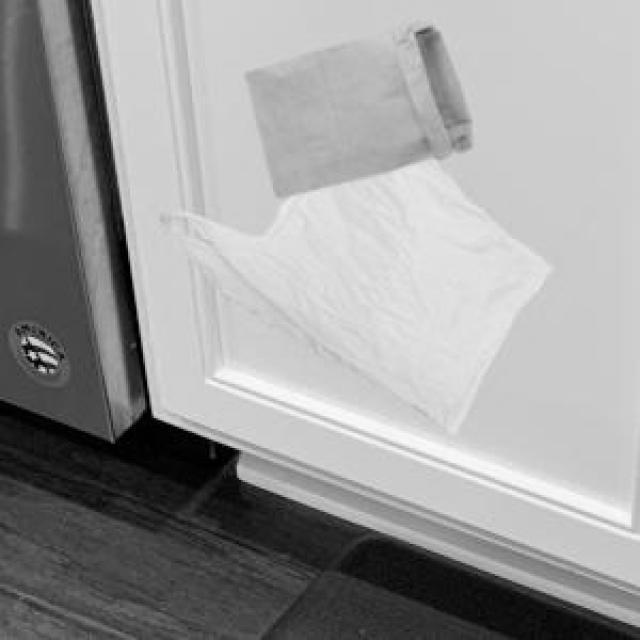paper: (241, 17, 467, 194)
